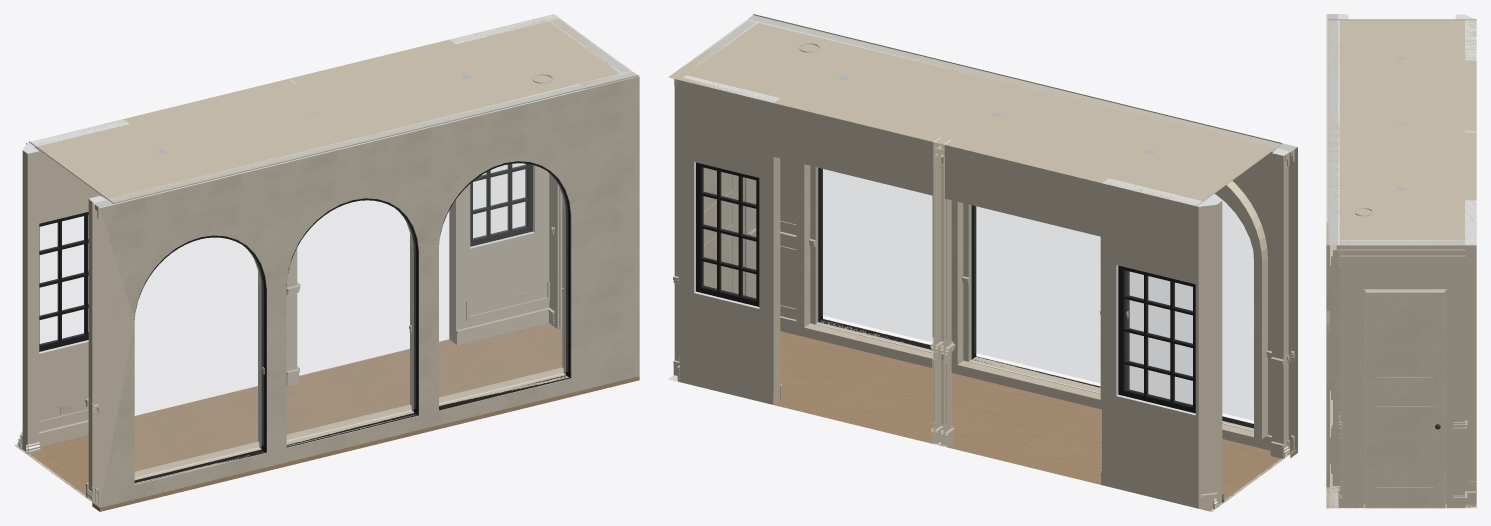
The model's file is office-hall-14b90d8882a3.glb.
3 renders of one model, left to right at view 1: azimuth 30°, elevation 25°; view 2: azimuth 150°, elevation 25°; view 3: azimuth 270°, elevation 25°, orthographic. The views are drawn at different scales.
Parts seen in each view (by area): view 1: office-hall-c9e78b9ec1bb39cd, office-hall-dbd60ee5c3733ed6, office-hall-5cbcc744e6f960f3, office-hall-c02a36d0521470a9, office-hall-38561c12898e4d43, office-hall-c374268555806af8, office-hall-93447d0fea18c81b, office-hall-000725c24cdd6469, office-hall-34036f75d4ebecdf, office-hall-30c11a1e1f11b96f, office-hall-85980d21e95efb24, office-hall-ff4536de08267b29 (+14 smaller); view 2: office-hall-dbd60ee5c3733ed6, office-hall-c374268555806af8, office-hall-34036f75d4ebecdf, office-hall-000725c24cdd6469, office-hall-c02a36d0521470a9, office-hall-5cbcc744e6f960f3, office-hall-c9e78b9ec1bb39cd, office-hall-38561c12898e4d43, office-hall-46643c5d76352396, office-hall-a5134b17c45f73b3, office-hall-85980d21e95efb24, office-hall-ff4536de08267b29 (+14 smaller); view 3: office-hall-dbd60ee5c3733ed6, office-hall-cf6d22c5317ced0b, office-hall-68d06b361ac47823, office-hall-c9e78b9ec1bb39cd, office-hall-000725c24cdd6469, office-hall-8cbce1d8f2f8a576, office-hall-c374268555806af8, office-hall-46643c5d76352396, office-hall-a5134b17c45f73b3, office-hall-93697f08ebd08859, office-hall-93447d0fea18c81b, office-hall-34036f75d4ebecdf (+1 smaller).
Part boxes in pixels (x1,y1,x2,y2): office-hall-c9e78b9ec1bb39cd: (92,84,586,507); office-hall-dbd60ee5c3733ed6: (29,14,638,203); office-hall-5cbcc744e6f960f3: (439,163,567,402); office-hall-c02a36d0521470a9: (287,200,415,439); office-hall-38561c12898e4d43: (135,238,263,476); office-hall-c374268555806af8: (15,323,639,511); office-hall-93447d0fea18c81b: (580,71,639,388); office-hall-000725c24cdd6469: (449,17,549,343); office-hall-34036f75d4ebecdf: (23,119,129,431); office-hall-30c11a1e1f11b96f: (22,147,39,451); office-hall-85980d21e95efb24: (40,216,84,344); office-hall-ff4536de08267b29: (473,164,525,238); office-hall-dbd60ee5c3733ed6: (668,14,1282,206); office-hall-c374268555806af8: (675,331,1297,511); office-hall-34036f75d4ebecdf: (1102,178,1216,508); office-hall-000725c24cdd6469: (679,75,780,404); office-hall-c02a36d0521470a9: (974,206,1100,382); office-hall-5cbcc744e6f960f3: (821,169,932,342); office-hall-c9e78b9ec1bb39cd: (800,28,1297,453); office-hall-38561c12898e4d43: (1128,194,1253,420); office-hall-46643c5d76352396: (773,98,939,195); office-hall-a5134b17c45f73b3: (945,140,1107,236); office-hall-85980d21e95efb24: (1125,271,1192,405); office-hall-ff4536de08267b29: (702,168,755,299); office-hall-dbd60ee5c3733ed6: (1328,19,1476,245); office-hall-cf6d22c5317ced0b: (1366,291,1444,506); office-hall-68d06b361ac47823: (1339,240,1464,508); office-hall-c9e78b9ec1bb39cd: (1326,14,1339,485); office-hall-000725c24cdd6469: (1465,200,1476,491); office-hall-8cbce1d8f2f8a576: (1363,289,1446,508); office-hall-c374268555806af8: (1327,291,1476,508); office-hall-46643c5d76352396: (1465,132,1476,200); office-hall-a5134b17c45f73b3: (1465,60,1476,127); office-hall-93697f08ebd08859: (1326,311,1329,487); office-hall-93447d0fea18c81b: (1326,222,1339,508); office-hall-34036f75d4ebecdf: (1465,15,1476,60).
Size of the model in its own units: 5.65 by 3.05 by 1.55.
Materials: 19 (5 with a texture image).
